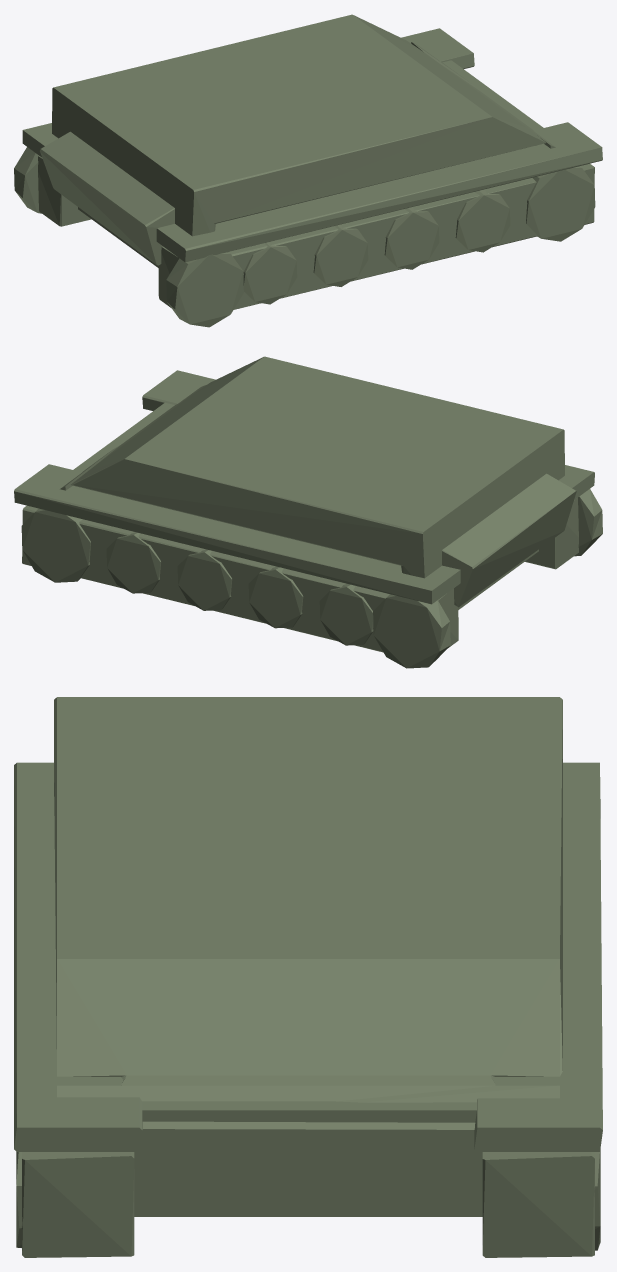
The model's file is tank.lod1.glb.
3 views of the same model, one above another, from view 1: azimuth 30°, elevation 25°; view 2: azimuth 150°, elevation 25°; view 3: azimuth 270°, elevation 25° (orthographic). The views are drawn at different scales.
Bounding box in the file's own units: 3.32 × 0.97 × 2.2.
